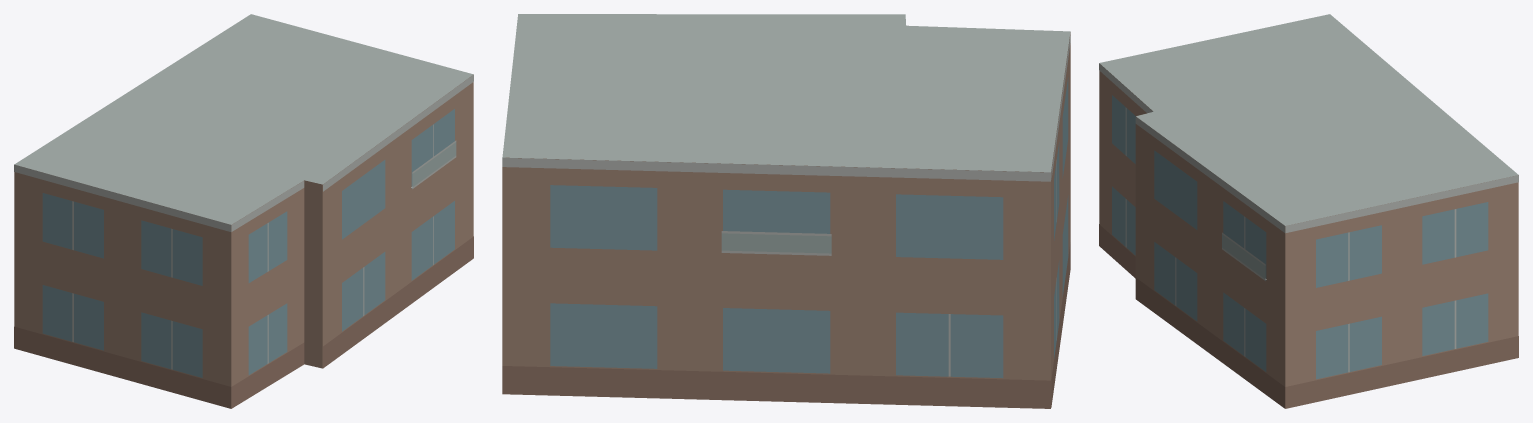
The model's file is survey-upis-32659196.glb.
3 renders of one model, left to right at view 1: azimuth 30°, elevation 25°; view 2: azimuth 150°, elevation 25°; view 3: azimuth 270°, elevation 25°, orthographic. The views are drawn at different scales.
Visible parts, largest first — view 1: survey-upis-32659196.tmp; view 2: survey-upis-32659196.tmp; view 3: survey-upis-32659196.tmp.
Boxes of the visible parts, x1,y1,x2,y2 form: survey-upis-32659196.tmp: [14, 14, 473, 408]; survey-upis-32659196.tmp: [502, 14, 1070, 408]; survey-upis-32659196.tmp: [1099, 14, 1518, 408].
Size of the model in its own units: 15.17 by 6.1 by 12.69.
